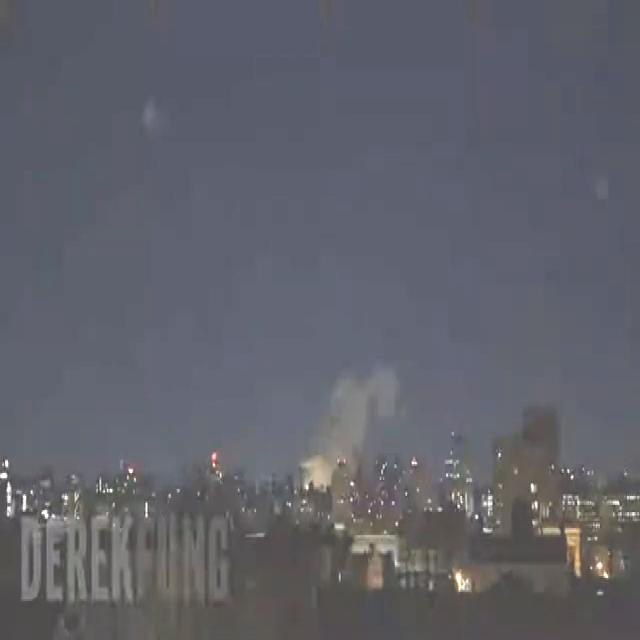smoke: (300, 364, 401, 484)
